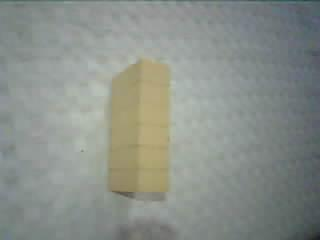lego: (106, 58, 171, 195)
